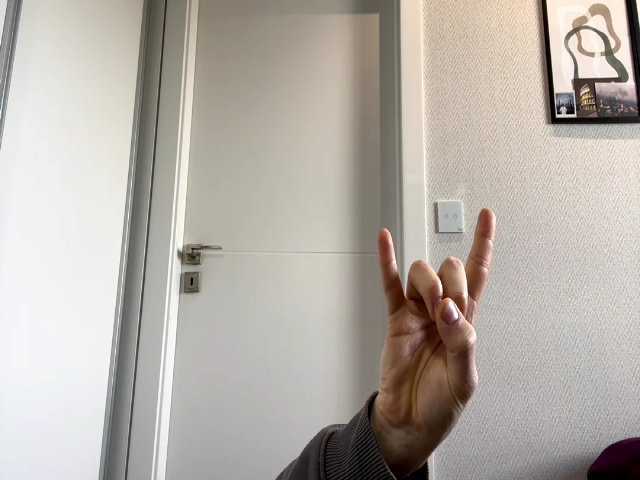Y: (378, 209, 496, 407)
